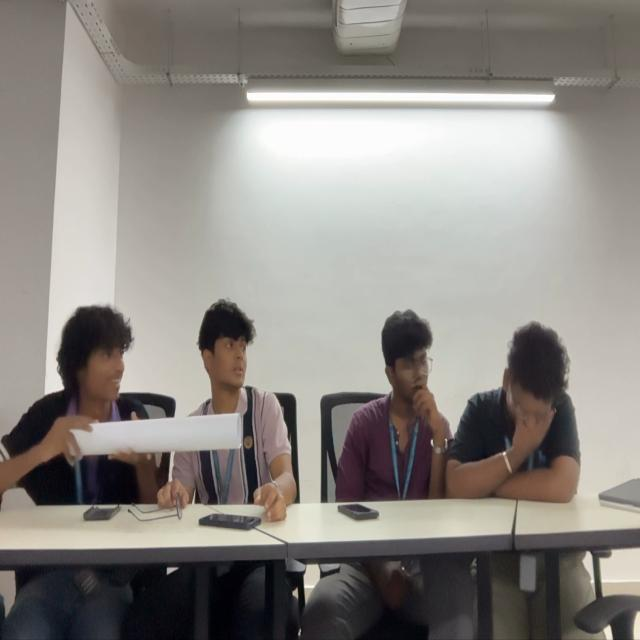Isolated: (454, 299, 582, 497), (337, 299, 448, 491)
socializing: (1, 278, 296, 513)
